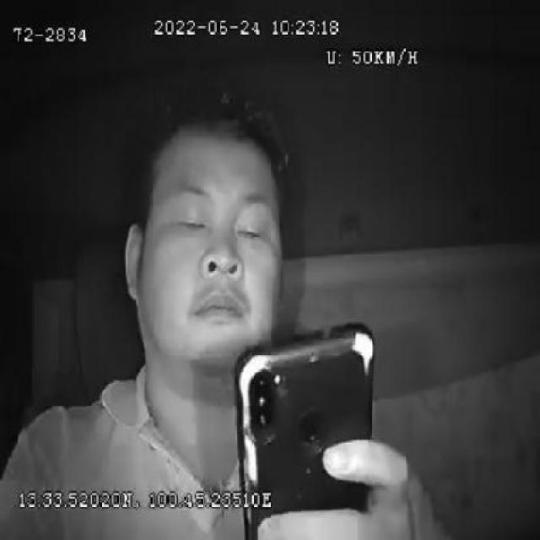phone: (232, 318, 376, 540)
